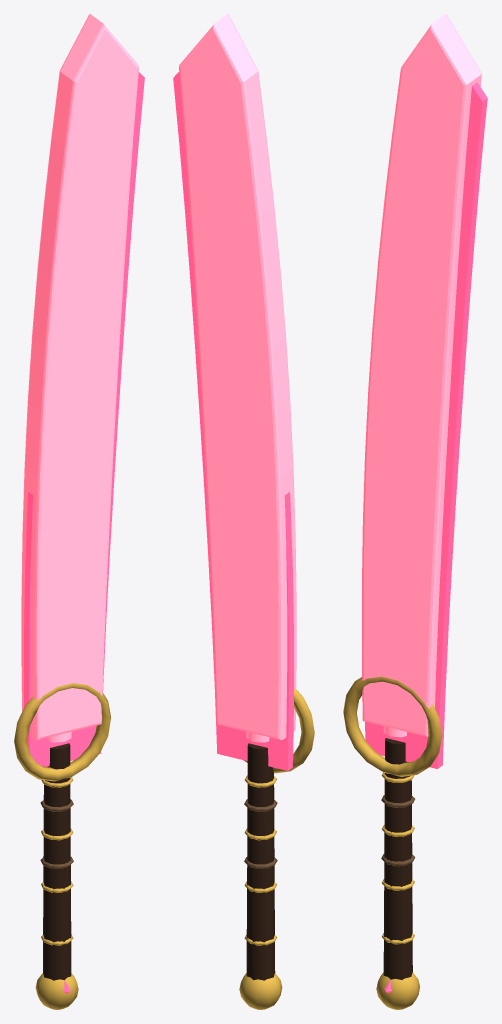
Rendered from greatsword_f4_91cdc945.glb.
The picture shows the model from 3 angles, left to right: view 1: azimuth 30°, elevation 25°; view 2: azimuth 150°, elevation 25°; view 3: azimuth 330°, elevation 25°; orthographic projection.
Parts seen in each view (by area): view 1: m4_ow80_, m2_ow80_, m0_gm130_, m5_ow80_, m6_ow80_; view 2: m4_ow80_, m0_gm130_, m2_ow80_, m5_ow80_, m6_ow80_; view 3: m4_ow80_, m0_gm130_, m2_ow80_, m5_ow80_, m6_ow80_.
Part boxes in pixels (x1,y1,x2,y2): m4_ow80_: [21, 14, 138, 742]; m2_ow80_: [43, 743, 71, 980]; m0_gm130_: [24, 72, 144, 766]; m5_ow80_: [14, 683, 110, 1009]; m6_ow80_: [40, 799, 73, 868]; m4_ow80_: [179, 14, 296, 742]; m0_gm130_: [173, 72, 293, 770]; m2_ow80_: [246, 743, 275, 980]; m5_ow80_: [239, 689, 314, 1009]; m6_ow80_: [244, 799, 277, 868]; m4_ow80_: [362, 14, 481, 737]; m0_gm130_: [365, 82, 487, 768]; m2_ow80_: [383, 738, 412, 979]; m5_ow80_: [343, 676, 441, 1009]; m6_ow80_: [381, 795, 415, 866].
Bounding box in the file's own units: 0.5372 × 3.76 × 0.1555.
